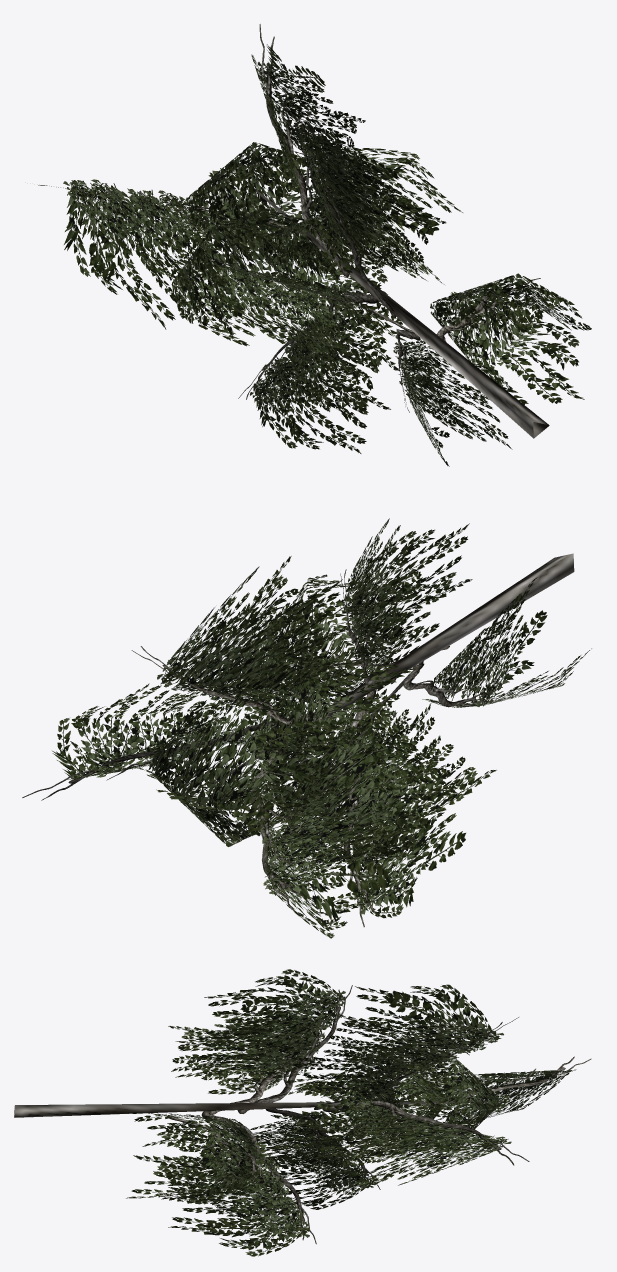
The model's file is MEP_Birch_01_a_LOD_01.fbx.
3 views of the same model, one above another, from view 1: azimuth 30°, elevation 25°; view 2: azimuth 150°, elevation 25°; view 3: azimuth 270°, elevation 25° (orthographic). The views are drawn at different scales.
Visible parts, largest first — view 1: MEP_Birch_01_LOD_01; view 2: MEP_Birch_01_LOD_01; view 3: MEP_Birch_01_LOD_01.
Part boxes in pixels (x1,y1,x2,y2): MEP_Birch_01_LOD_01: (38,24,591,466); MEP_Birch_01_LOD_01: (22,518,591,938); MEP_Birch_01_LOD_01: (14,969,591,1256).
Size of the model in its own units: 6.09 by 5.84 by 12.22.
